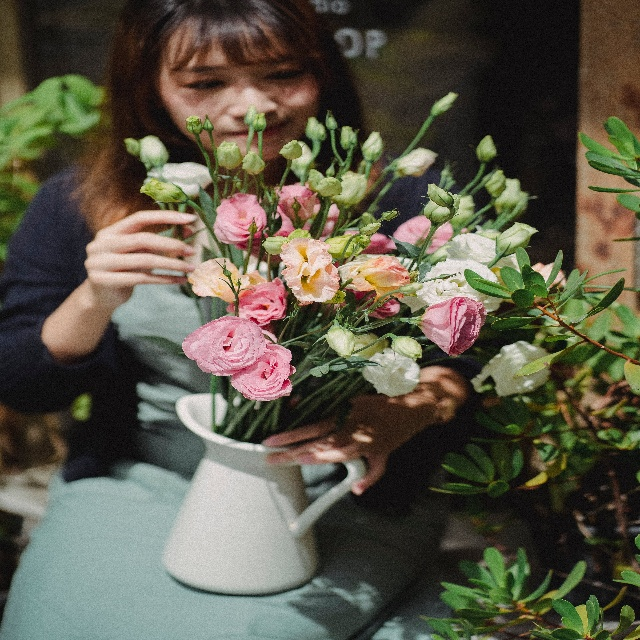Sin_guantes: (265, 398, 430, 493), (84, 210, 201, 281)
